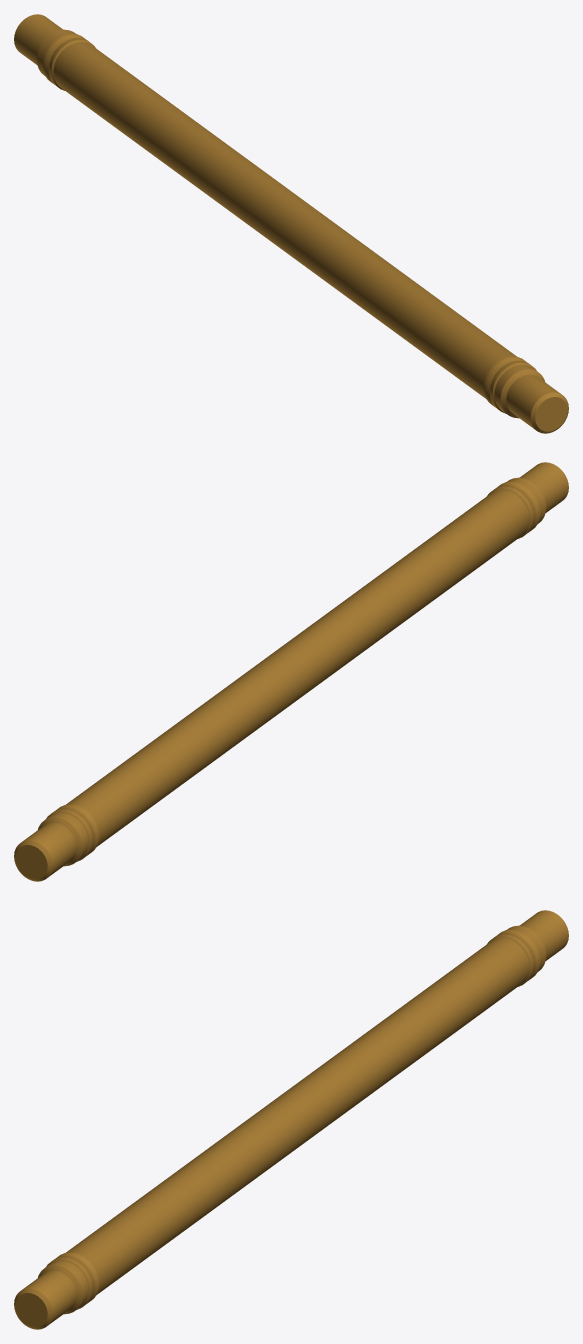
File: shaft_long.glb
The picture shows the model from 3 angles, top to bottom: view 1: azimuth 30°, elevation 25°; view 2: azimuth 150°, elevation 25°; view 3: azimuth 330°, elevation 25°; orthographic projection.
Parts seen in each view (by area): view 1: Shaft_Long; view 2: Shaft_Long; view 3: Shaft_Long.
Part boxes in pixels (box(x1,y1,x2,y2)): Shaft_Long: box(14, 14, 568, 433); Shaft_Long: box(14, 462, 568, 881); Shaft_Long: box(14, 910, 568, 1329).
Size of the model in its own units: 0.008 by 0.008 by 0.15.
